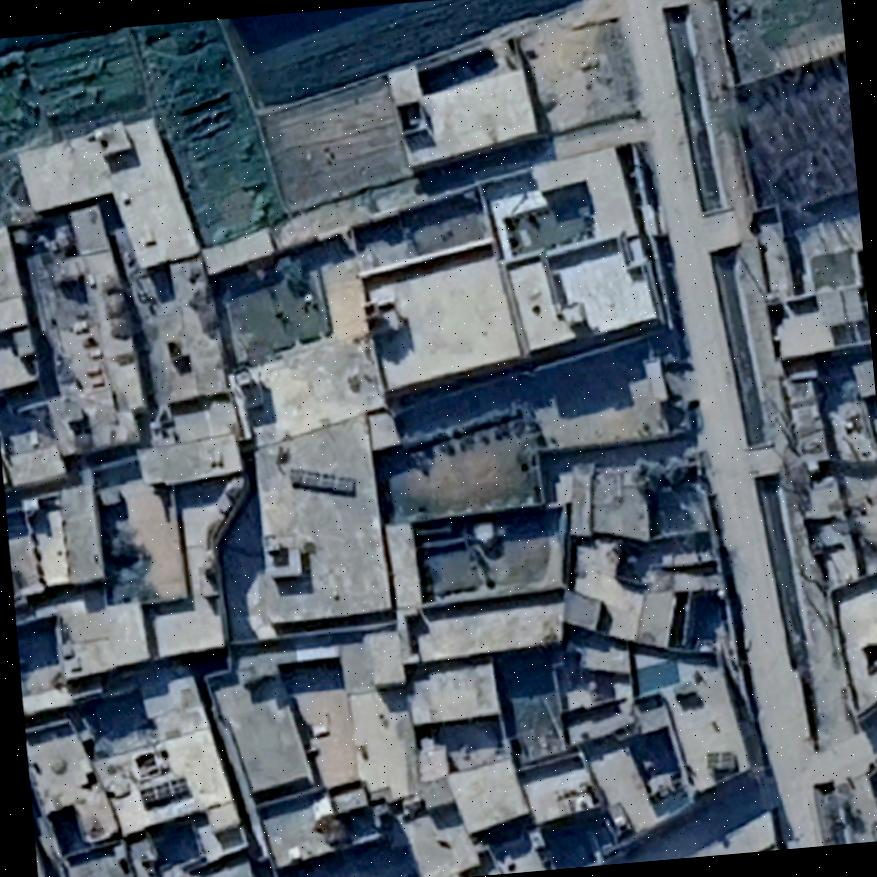Solarpanel: (283, 464, 357, 495), (137, 776, 194, 812), (703, 747, 740, 776)
